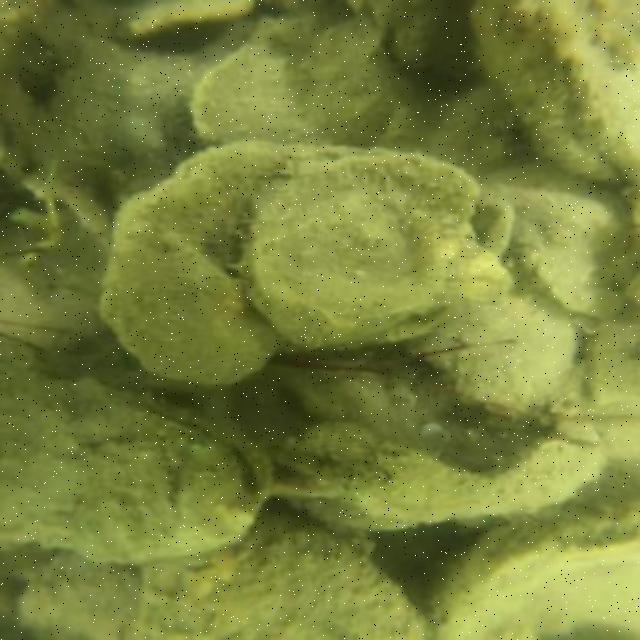Oyster-Closed: (0, 345, 274, 558), (109, 143, 280, 386), (143, 506, 419, 637), (478, 0, 639, 182), (438, 493, 637, 631), (192, 32, 395, 143), (449, 295, 577, 418), (19, 554, 138, 637), (294, 421, 379, 481), (594, 322, 629, 412)
Oyster-Open: (252, 150, 516, 343)
